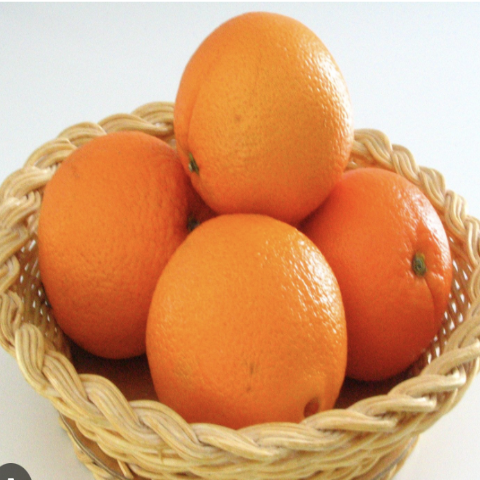orange: (140, 190, 362, 462), (16, 125, 210, 353), (162, 0, 354, 208), (292, 157, 468, 349)
